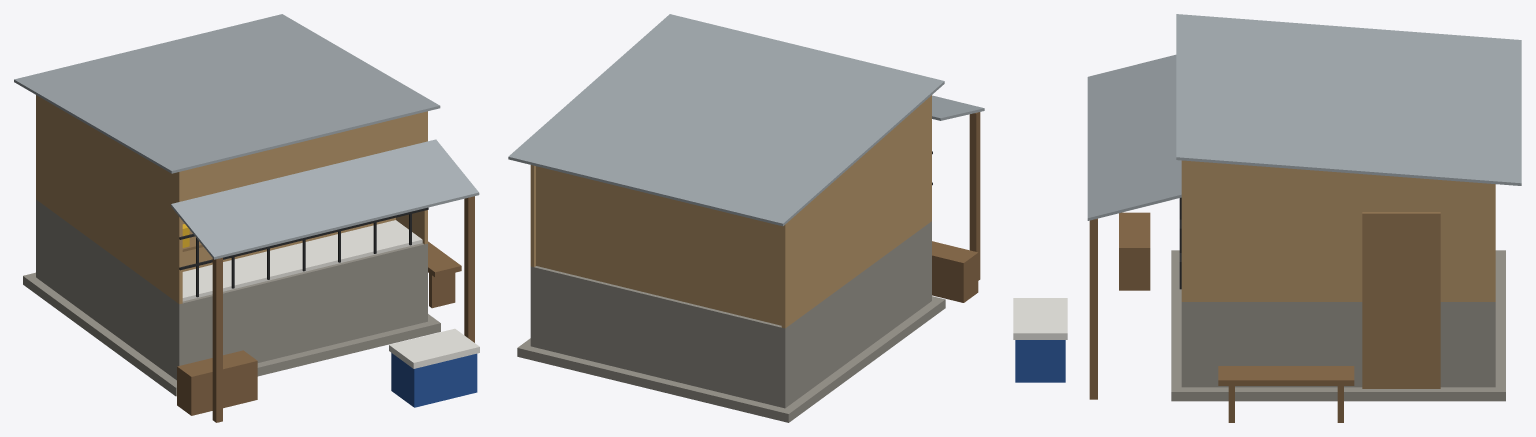
File: BAY_I_SariSari_C.glb
3 renders of one model, left to right at view 1: azimuth 30°, elevation 25°; view 2: azimuth 150°, elevation 25°; view 3: azimuth 270°, elevation 25°, orthographic. The views are drawn at different scales.
Visible parts, largest first — view 1: BAY_I_SariSari_C; view 2: BAY_I_SariSari_C; view 3: BAY_I_SariSari_C.
Boxes of the visible parts, left/top/right/bottom form: BAY_I_SariSari_C: left=14, top=14, right=479, bottom=422; BAY_I_SariSari_C: left=508, top=14, right=984, bottom=422; BAY_I_SariSari_C: left=1013, top=14, right=1521, bottom=422.
Size of the model in its own units: 3.81 by 2.58 by 4.86.
1 material, 1 textured.
